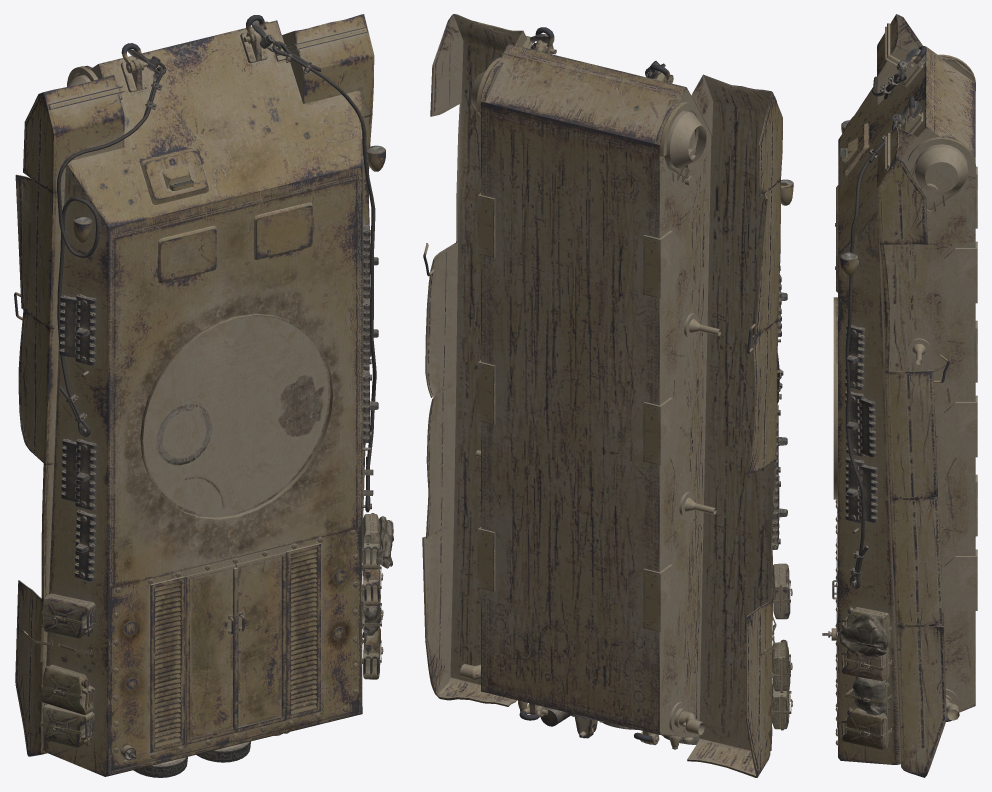
Rendered from Hull.glb.
3 views of the same model, side by side, from view 1: azimuth 30°, elevation 25°; view 2: azimuth 150°, elevation 25°; view 3: azimuth 270°, elevation 25° (orthographic). The views are drawn at different scales.
Visible parts, largest first — view 1: set_0_group_0; view 2: set_0_group_0; view 3: set_0_group_0.
Part boxes in pixels (left/top/right/bottom): set_0_group_0: left=14, top=14, right=393, bottom=777; set_0_group_0: left=422, top=14, right=793, bottom=777; set_0_group_0: left=822, top=14, right=977, bottom=777.
Size of the model in its own units: 3.63 by 6.98 by 1.51.
Materials: 1 (1 with a texture image).
